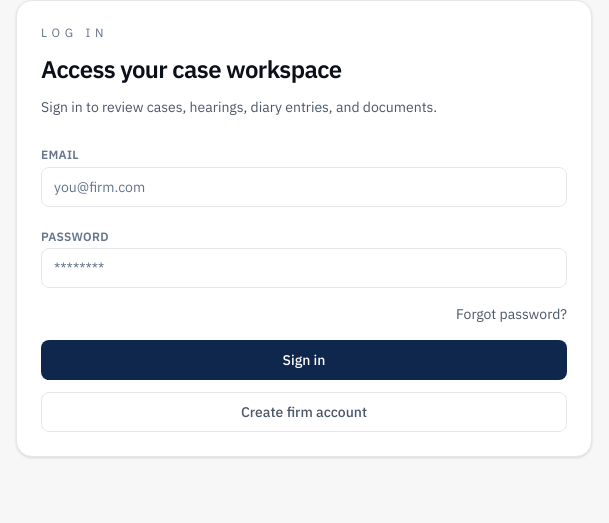
Test: login page › asks for both fields before contacting the server
Click the button "Sign in".
click(304, 360)  # box [41,340,567,380]
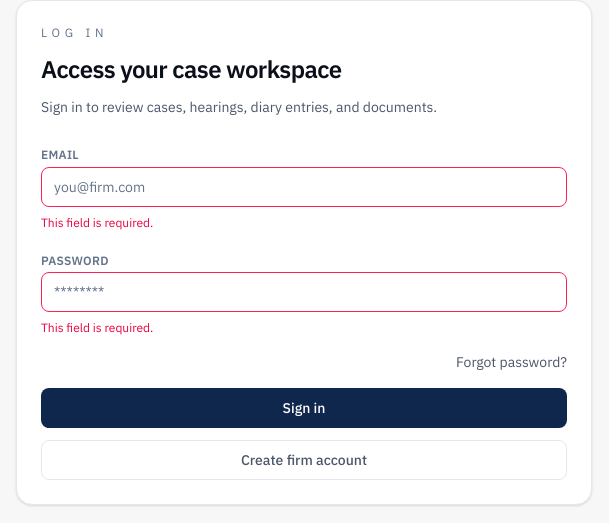
Result: the text "This field is required." is shown 2 times at [41,215,153,230]; [41,320,153,335]
